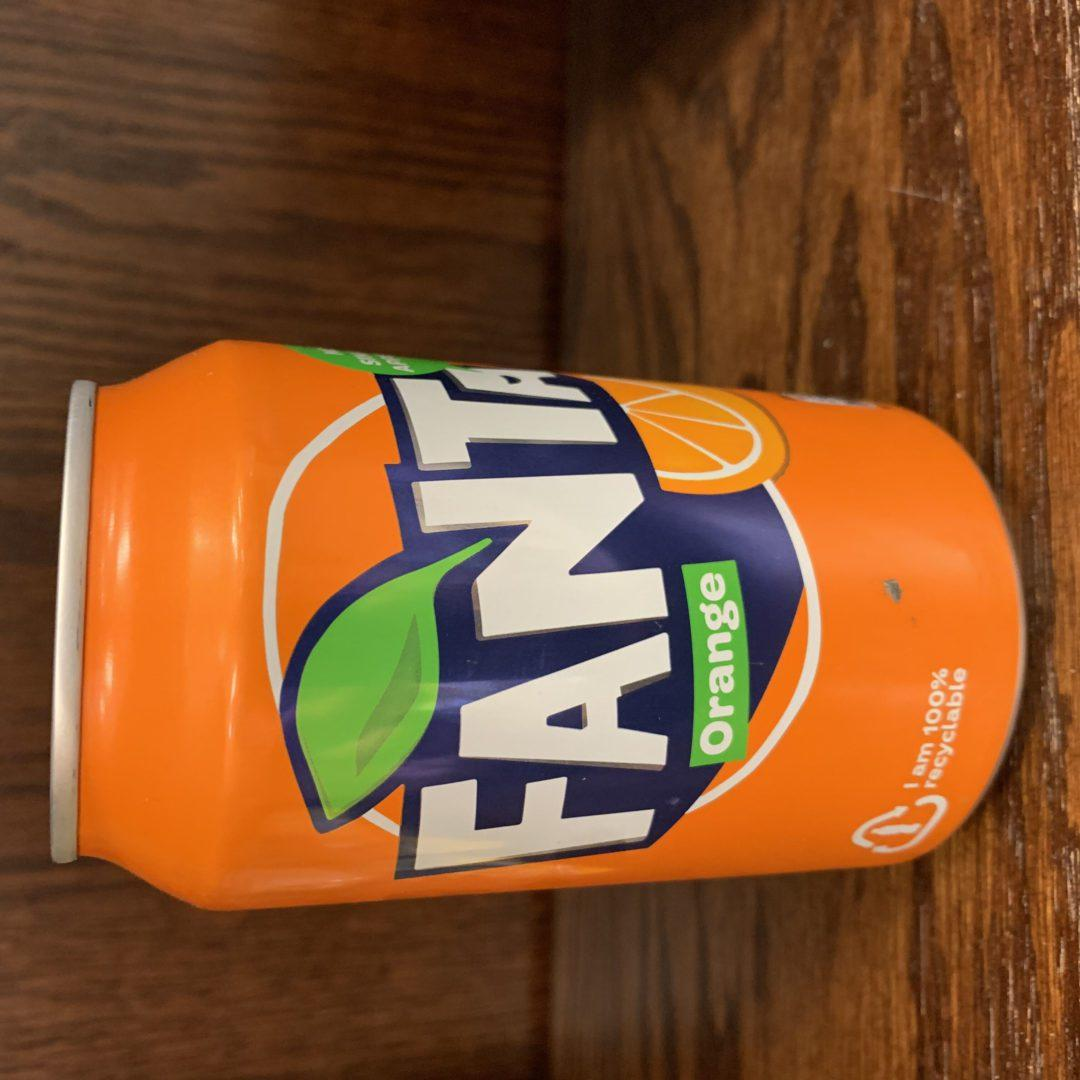metal: (49, 341, 1026, 910)
